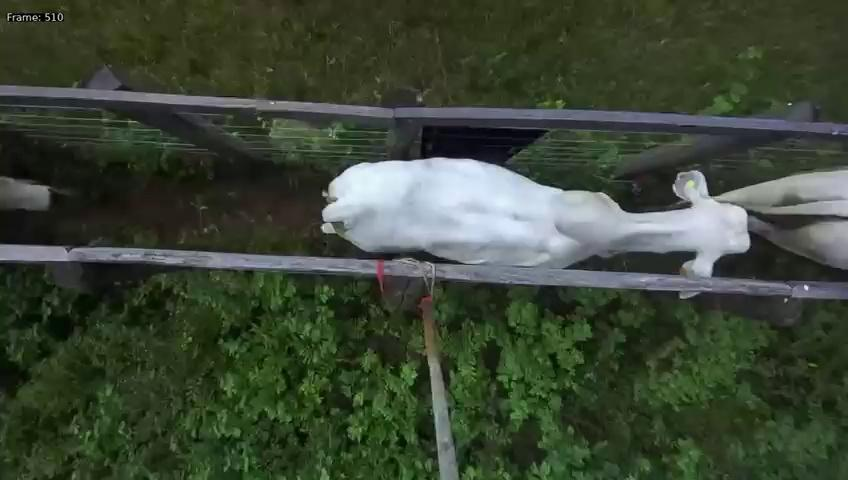cattle: (317, 122, 760, 303)
